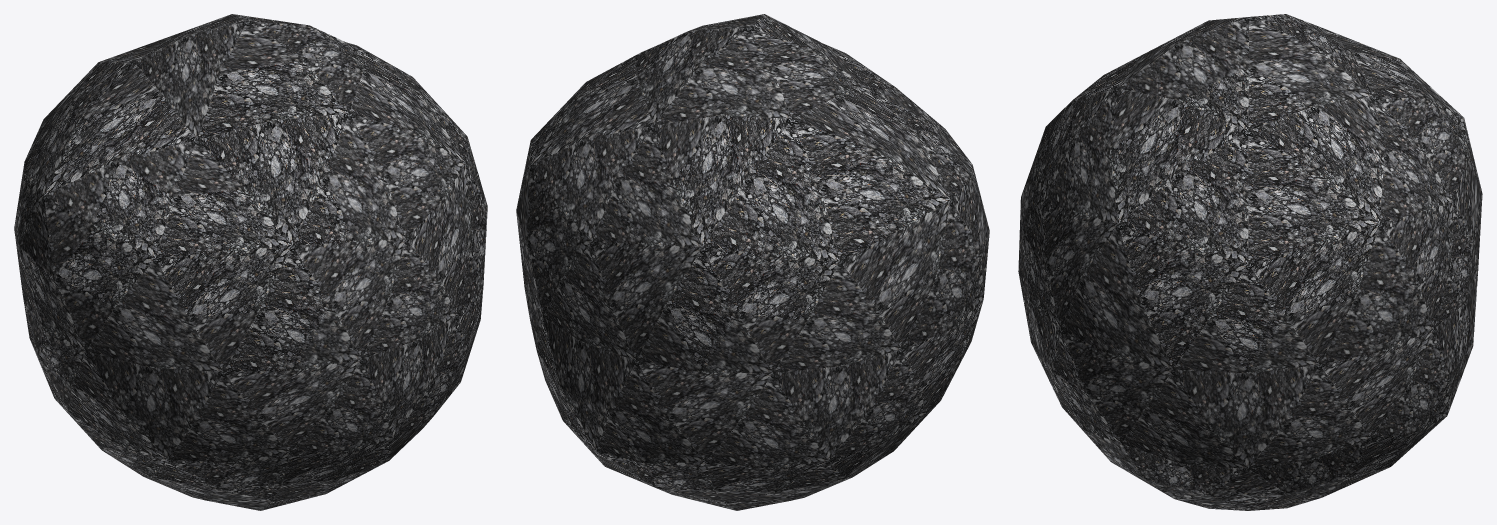
The model's file is Coal lump.obj.
The picture shows the model from 3 angles, left to right: view 1: azimuth 30°, elevation 25°; view 2: azimuth 150°, elevation 25°; view 3: azimuth 270°, elevation 25°; orthographic projection.
Parts seen in each view (by area): view 1: Icosphere; view 2: Icosphere; view 3: Icosphere.
Boxes of the visible parts, x1,y1,x2,y2 form: Icosphere: (14, 14, 487, 510); Icosphere: (516, 14, 989, 510); Icosphere: (1018, 14, 1482, 510).
Size of the model in its own units: 2.13 by 2.31 by 2.02.
1 material, 1 textured.
